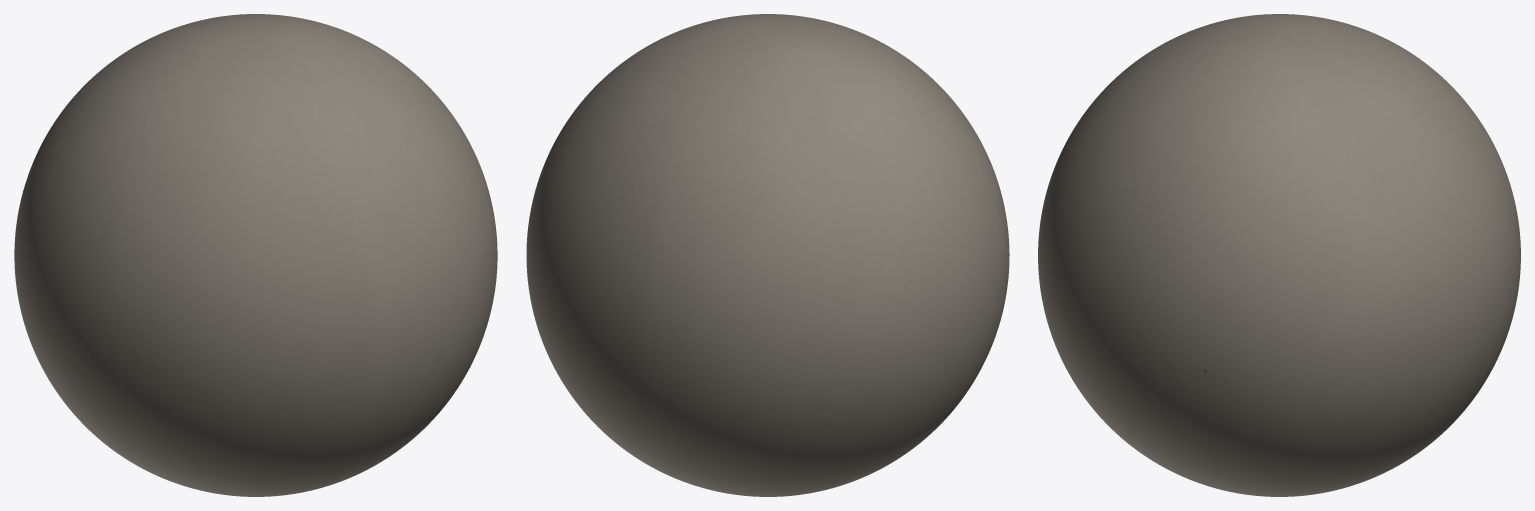
The model's file is moon_03_1k.gltf.
3 renders of one model, left to right at view 1: azimuth 30°, elevation 25°; view 2: azimuth 150°, elevation 25°; view 3: azimuth 270°, elevation 25°, orthographic.
Visible parts, largest first — view 1: sphere_gltf; view 2: sphere_gltf; view 3: sphere_gltf.
Part boxes in pixels (bbox=[...]): sphere_gltf: bbox=[14, 14, 497, 496]; sphere_gltf: bbox=[526, 14, 1009, 496]; sphere_gltf: bbox=[1038, 14, 1520, 496].
Size of the model in its own units: 3.2 by 3.2 by 3.2.
1 material, 1 textured.
